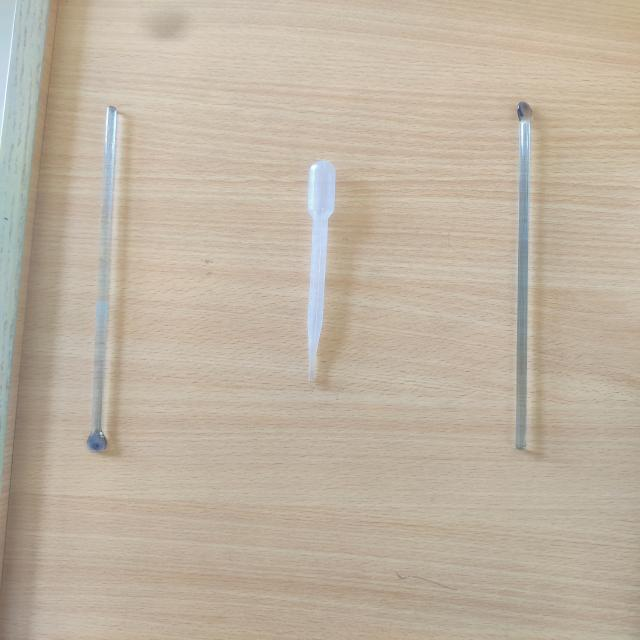Glass_Rod: (463, 56, 589, 482), (71, 82, 159, 471)
Pipette: (265, 127, 391, 408)
